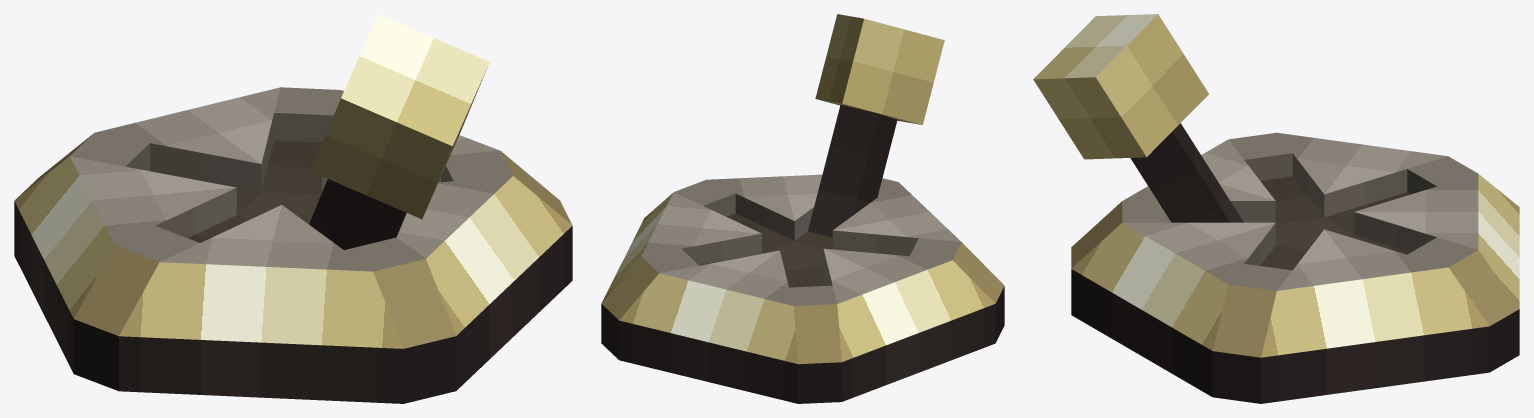
File: lever_6state_1.obj
The picture shows the model from 3 angles, left to right: view 1: azimuth 30°, elevation 25°; view 2: azimuth 150°, elevation 25°; view 3: azimuth 270°, elevation 25°; orthographic projection. The views are drawn at different scales.
Visible parts, largest first — view 1: 6-STATE_Circle.003, LEVER_Cube.049; view 2: 6-STATE_Circle.003, LEVER_Cube.049; view 3: 6-STATE_Circle.003, LEVER_Cube.049.
Part boxes in pixels (<box>): 6-STATE_Circle.003: <box>14,87,572,403</box>; LEVER_Cube.049: <box>309,14,489,249</box>; 6-STATE_Circle.003: <box>601,174,1004,403</box>; LEVER_Cube.049: <box>808,14,944,237</box>; 6-STATE_Circle.003: <box>1071,132,1519,403</box>; LEVER_Cube.049: <box>1033,14,1243,222</box>.
Bounding box in the file's own units: 0.5776 × 0.3924 × 0.5959.
